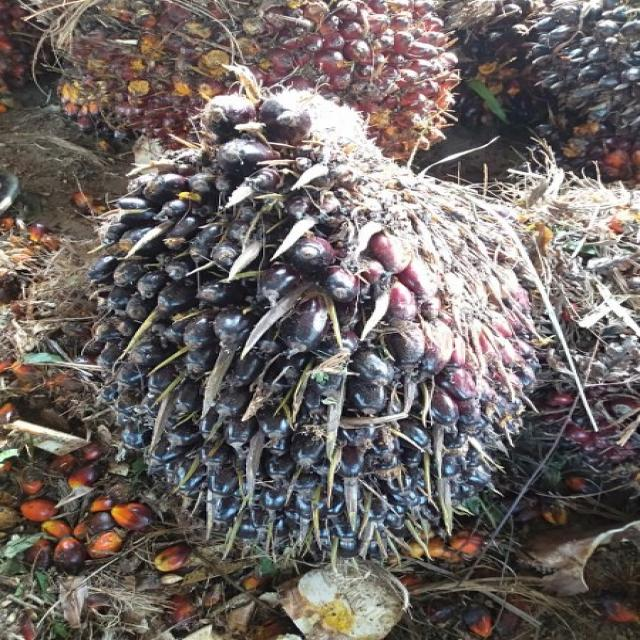fraksi 00: (82, 93, 552, 564)
